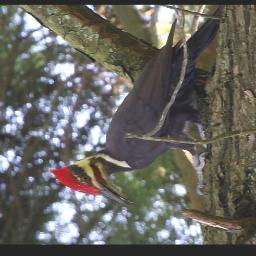Woodpecker: (48, 5, 226, 206)
